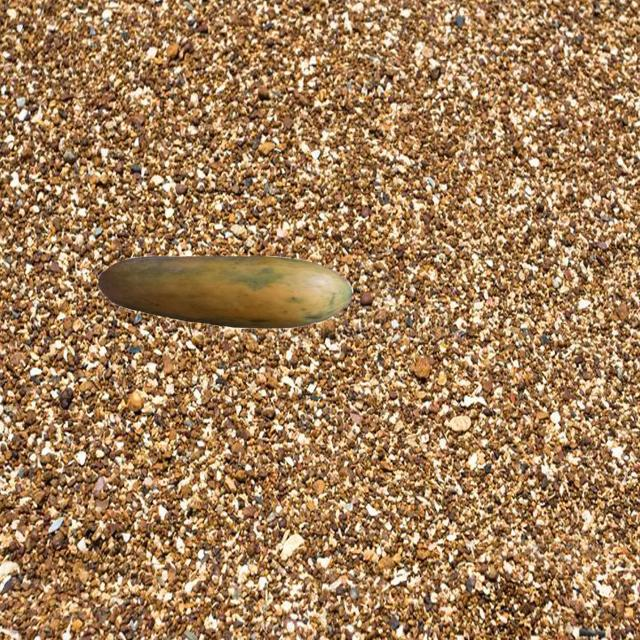Pepaya rippen: (94, 243, 347, 333)
